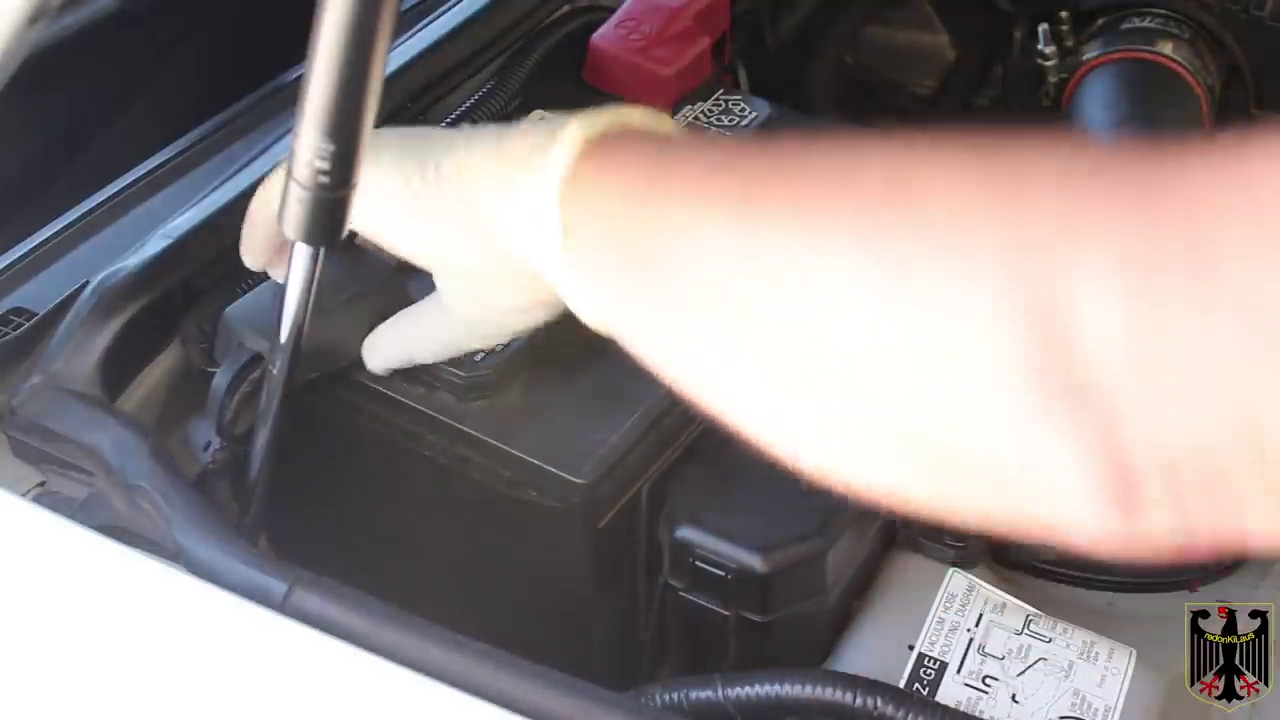battery: (229, 3, 881, 481)
pos_connected: (551, 9, 768, 127)
